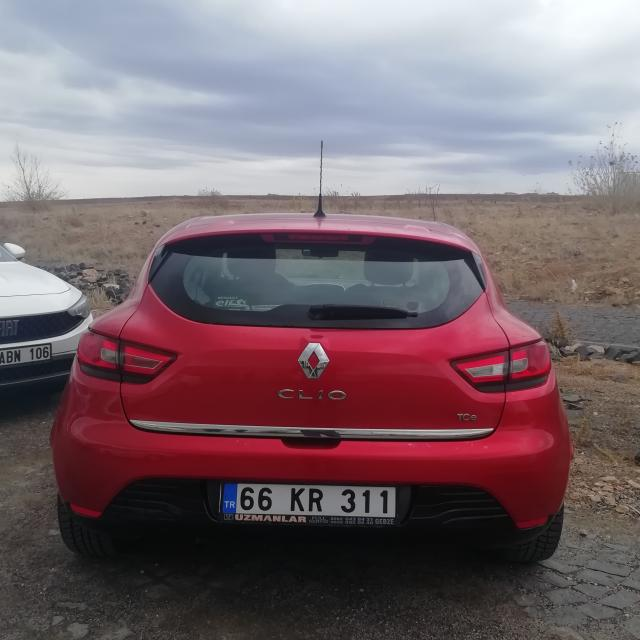license_plate: (219, 480, 398, 519)
